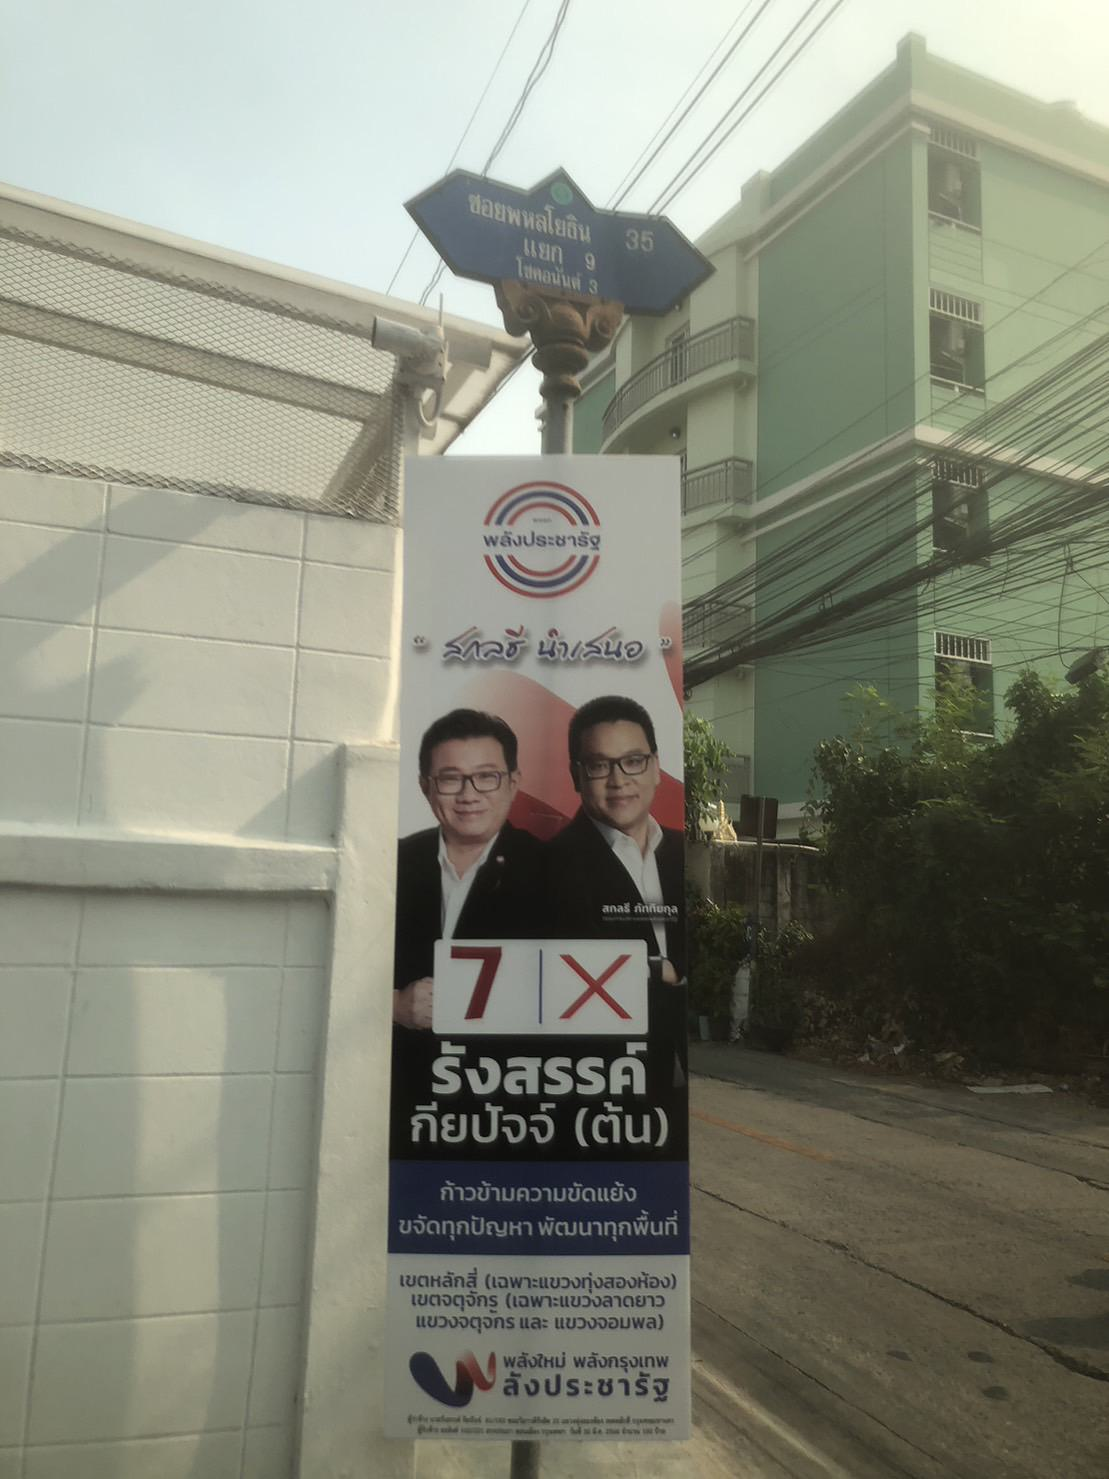Banner: (390, 447, 705, 1444)
